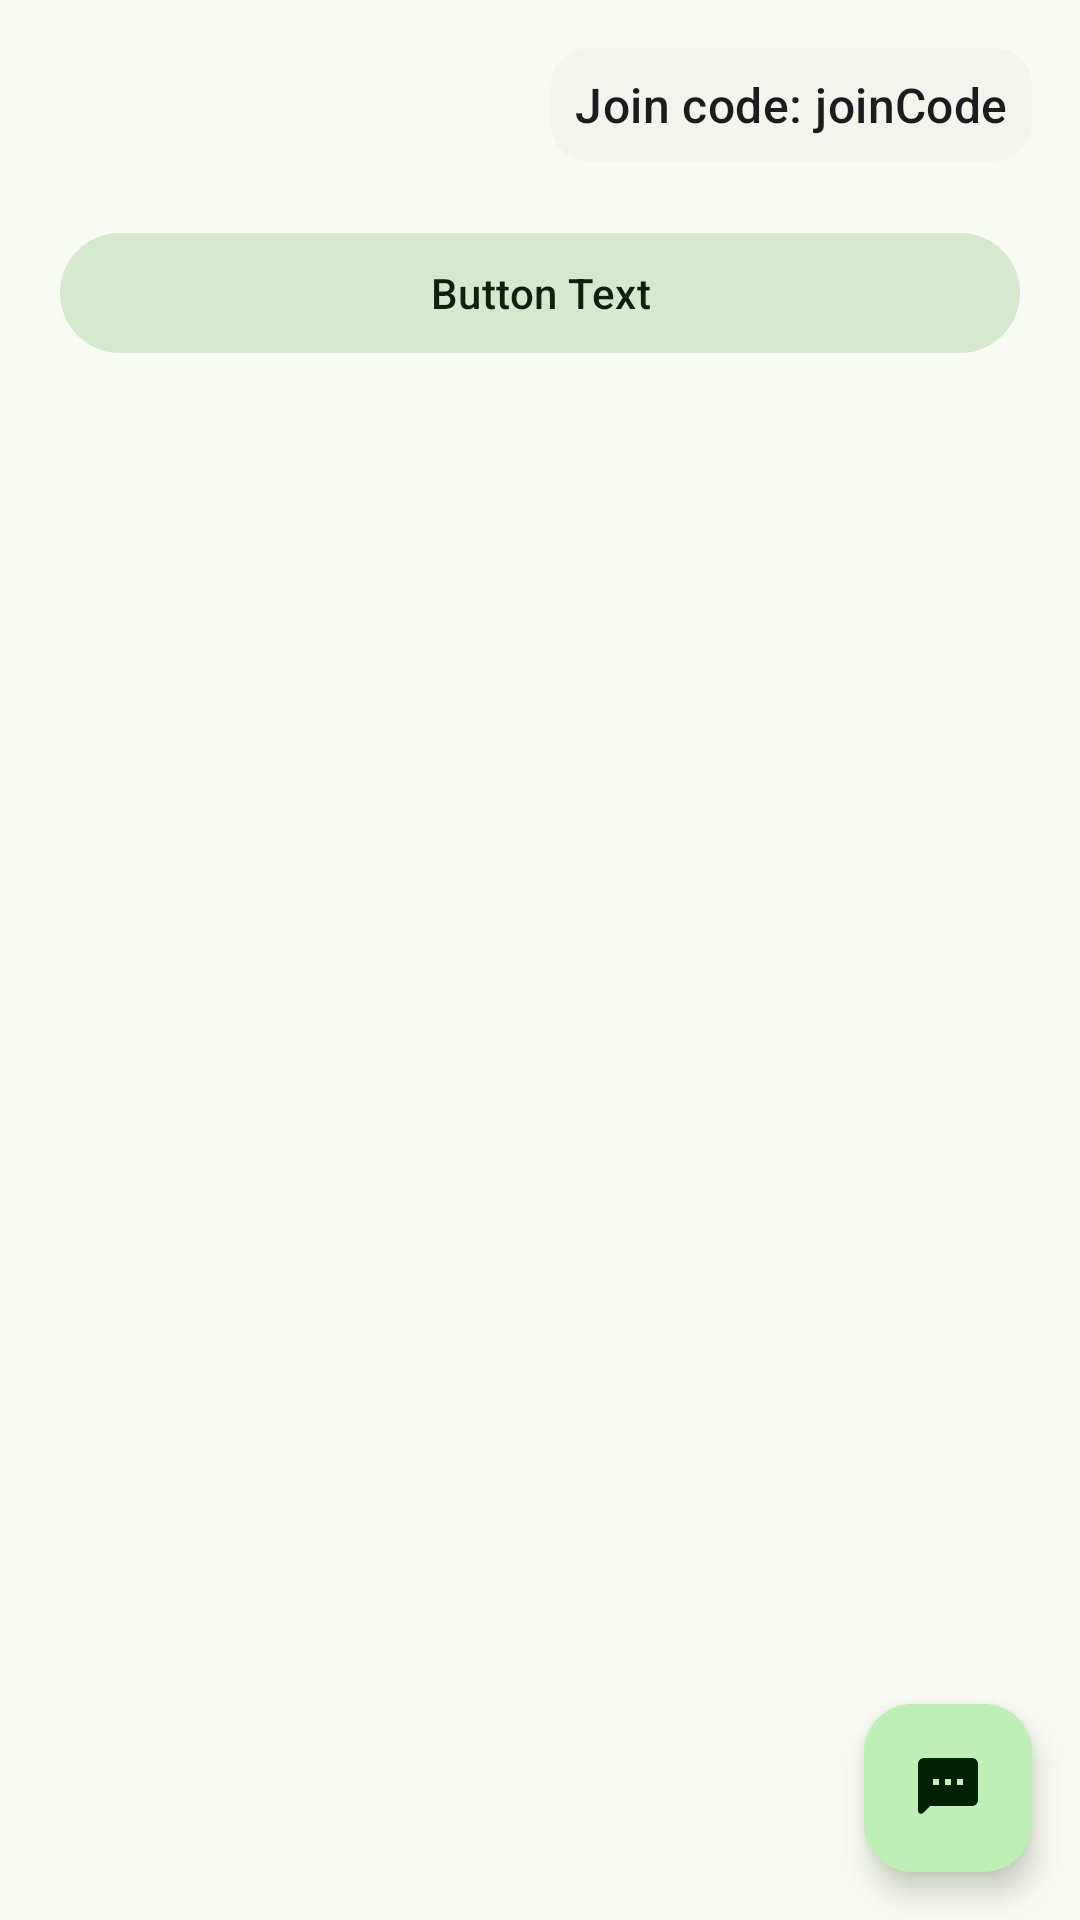

Named icons in this screenshot (1080×1920) and their bounding boxes, bbox=[x1, y1, x2, y2]:
Open classroom chat: bbox=[864, 1704, 1032, 1872]
